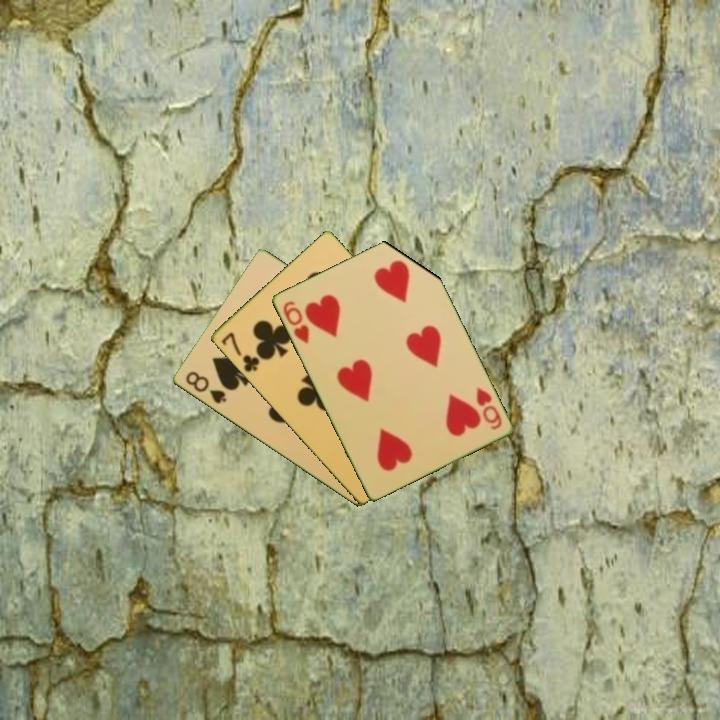6h: (279, 297, 312, 347), (472, 384, 505, 432)
7c: (217, 329, 262, 375)
8s: (182, 368, 229, 407)
